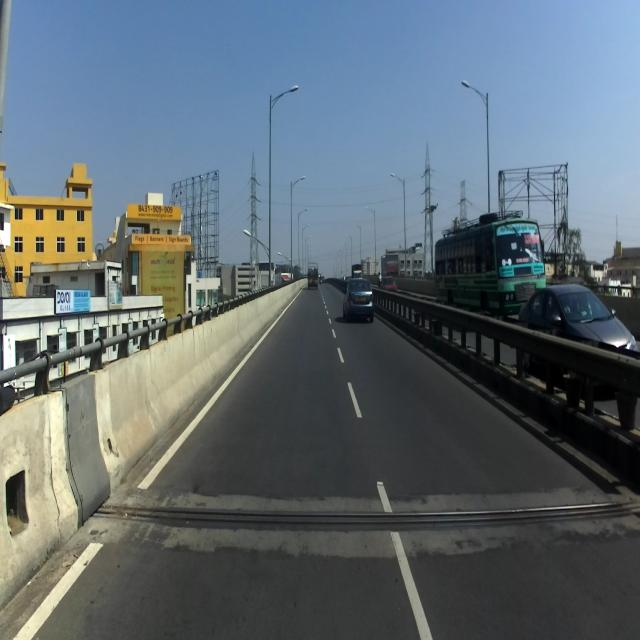car ahead at: (343, 270, 372, 324)
